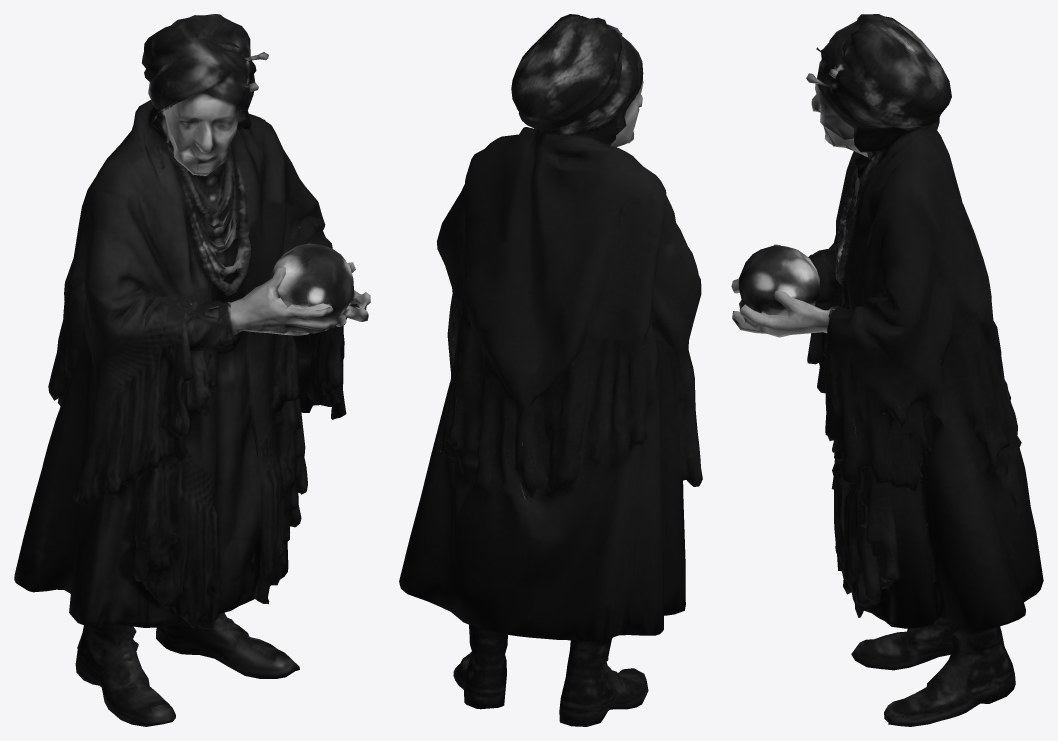
Rendered from madame_vey_ghost.glb.
The picture shows the model from 3 angles, left to right: view 1: azimuth 30°, elevation 25°; view 2: azimuth 150°, elevation 25°; view 3: azimuth 270°, elevation 25°; orthographic projection. The views are drawn at different scales.
Parts seen in each view (by area): view 1: RETOPO; view 2: RETOPO; view 3: RETOPO.
Boxes of the visible parts, x1,y1,x2,y2 form: RETOPO: (14, 14, 370, 726); RETOPO: (399, 14, 702, 726); RETOPO: (731, 14, 1043, 726).
Size of the model in its own units: 0.6533 by 1.62 by 0.6856.
Materials: 1 (1 with a texture image).
